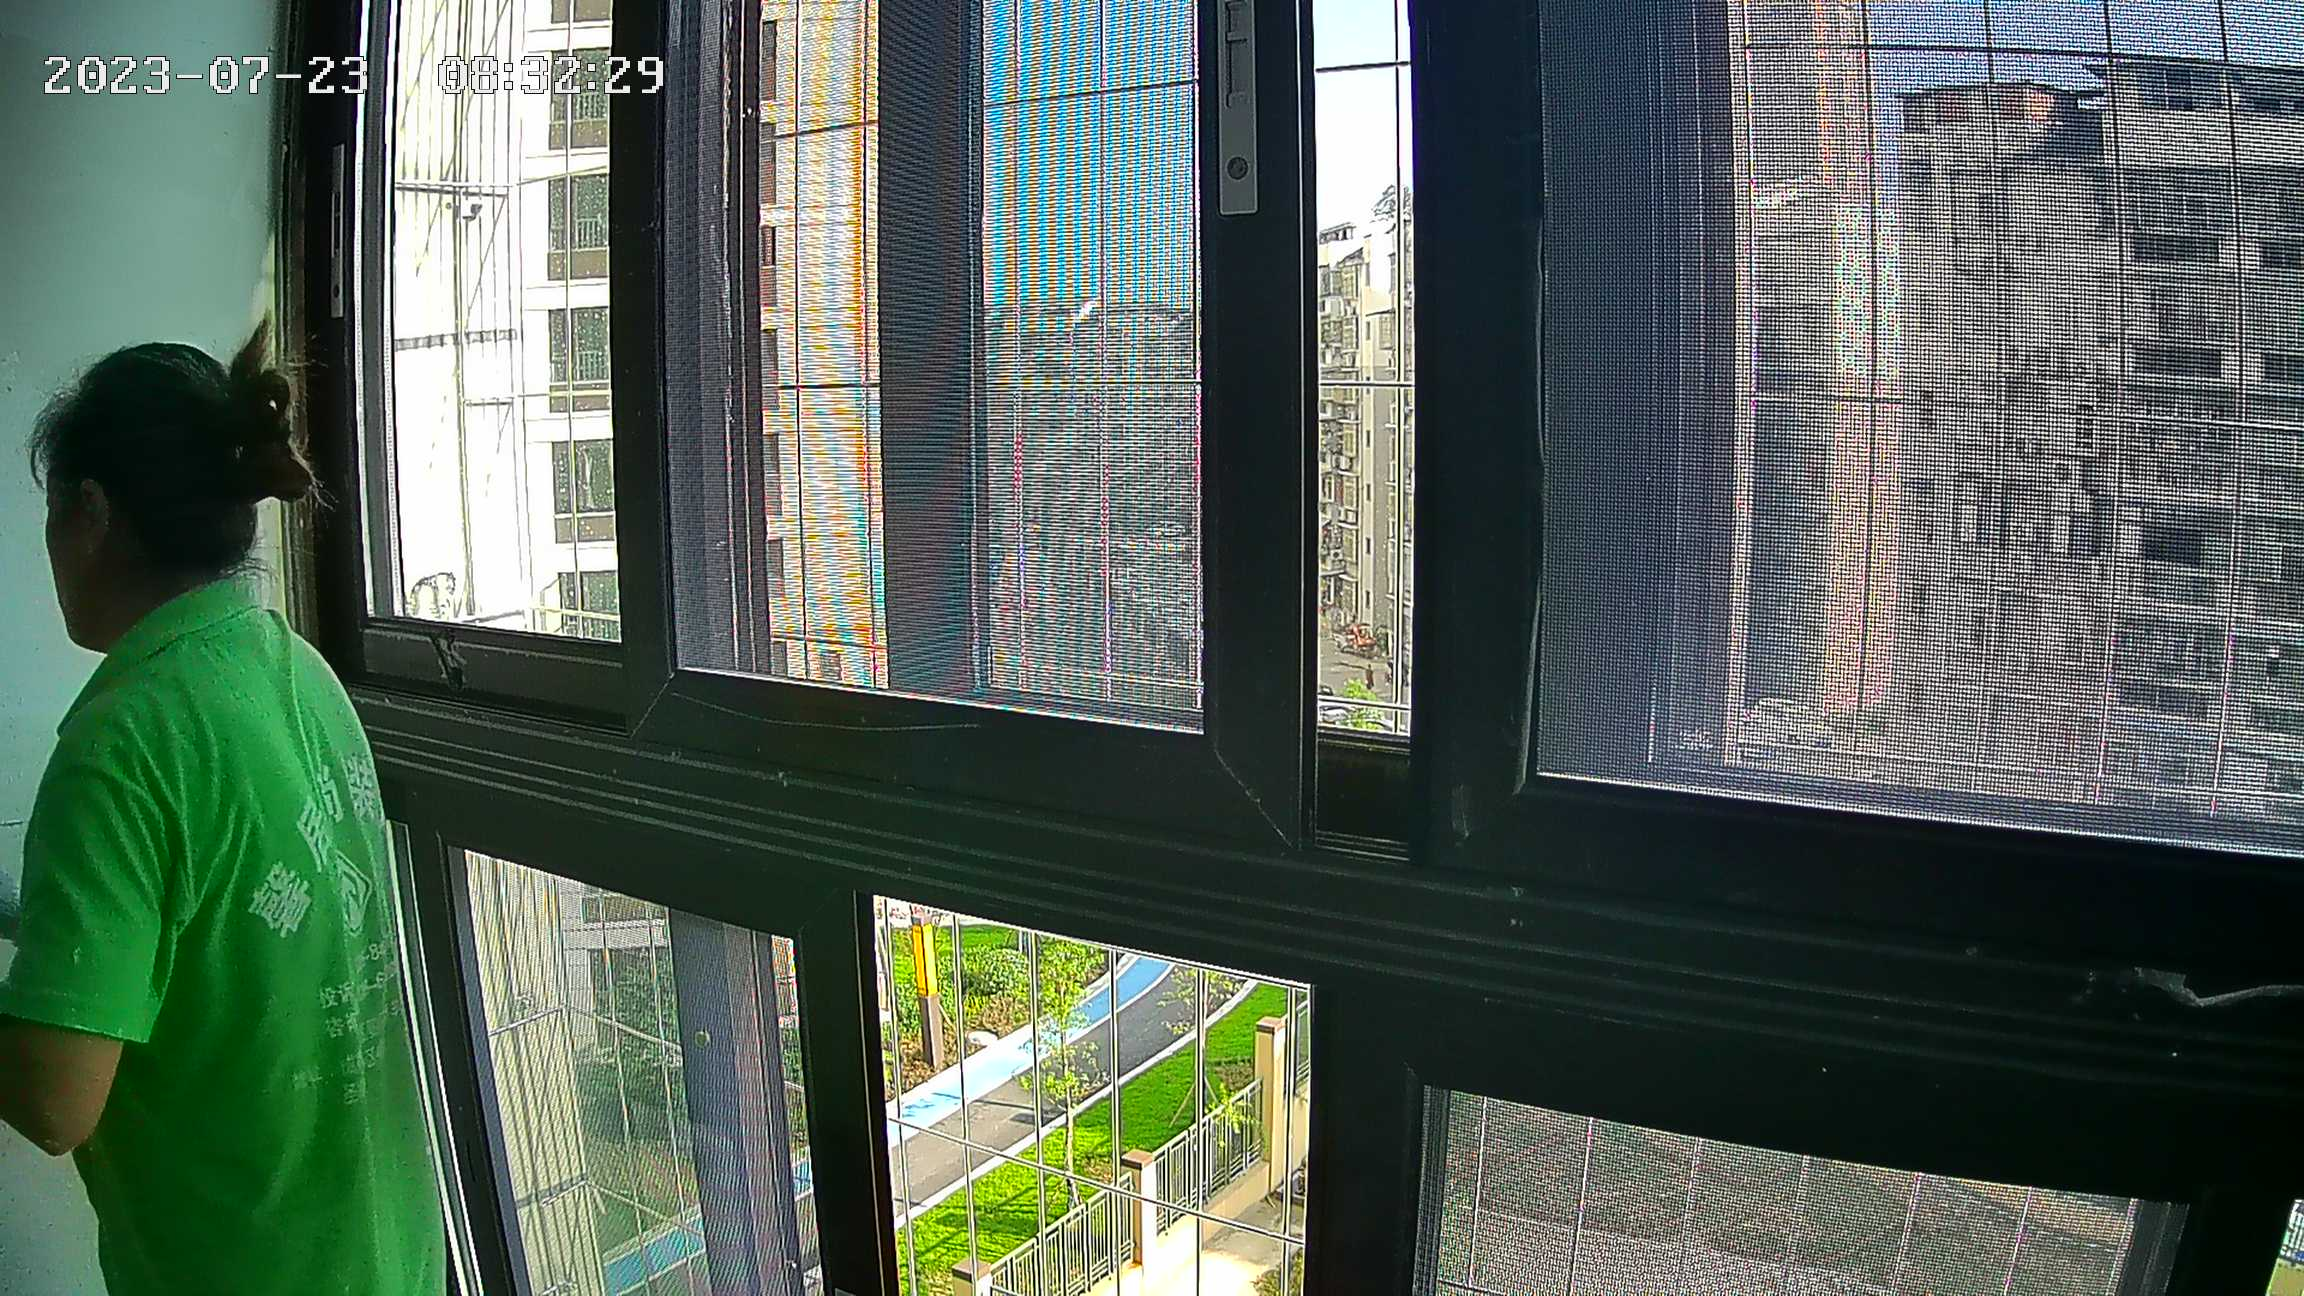people: (12, 329, 429, 1296)
window: (353, 2, 2304, 1294)
